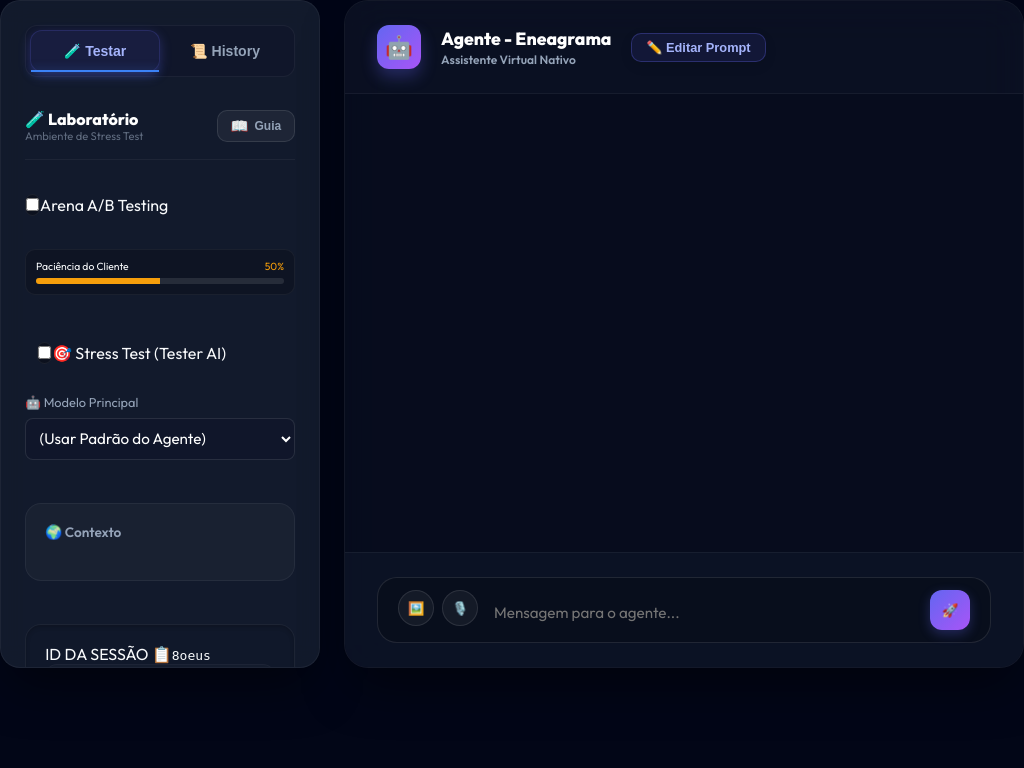
it: ChatPlayground Component › should render link bubble without crashing when response is only a URL
Step 1. Type "Me manda o link" into the text box with placeholder "Mensagem para o agente..." → (704, 612), box [494,595,914,630]
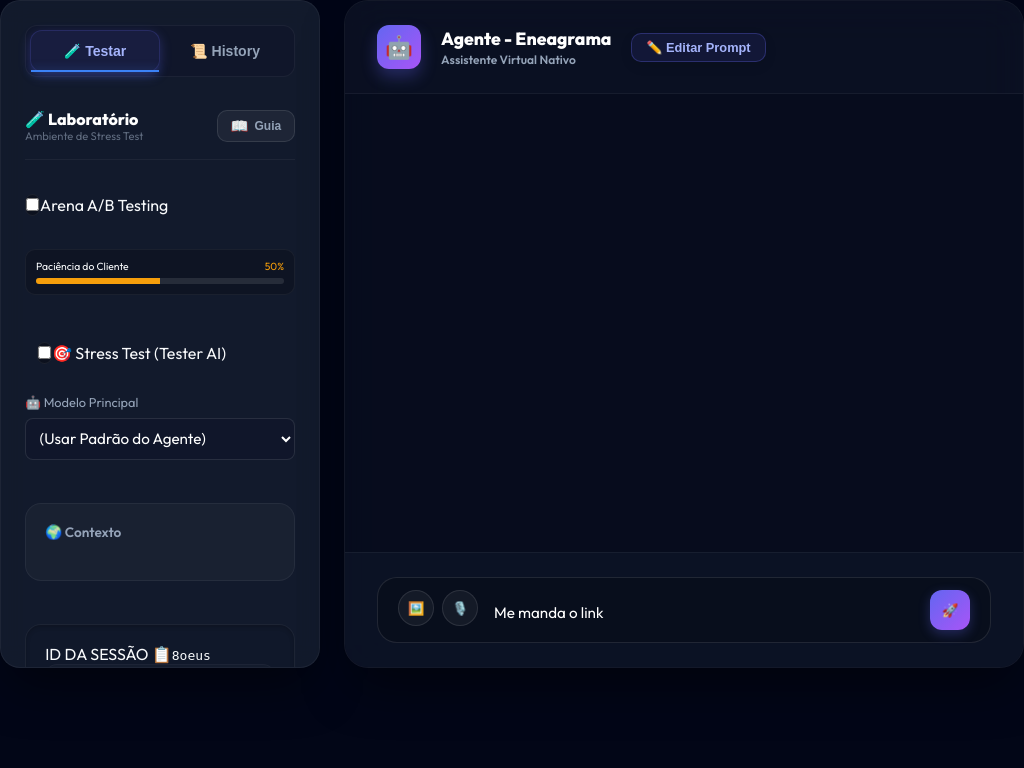
Step 2. Click the submit button → (950, 610), box [930,590,970,630]
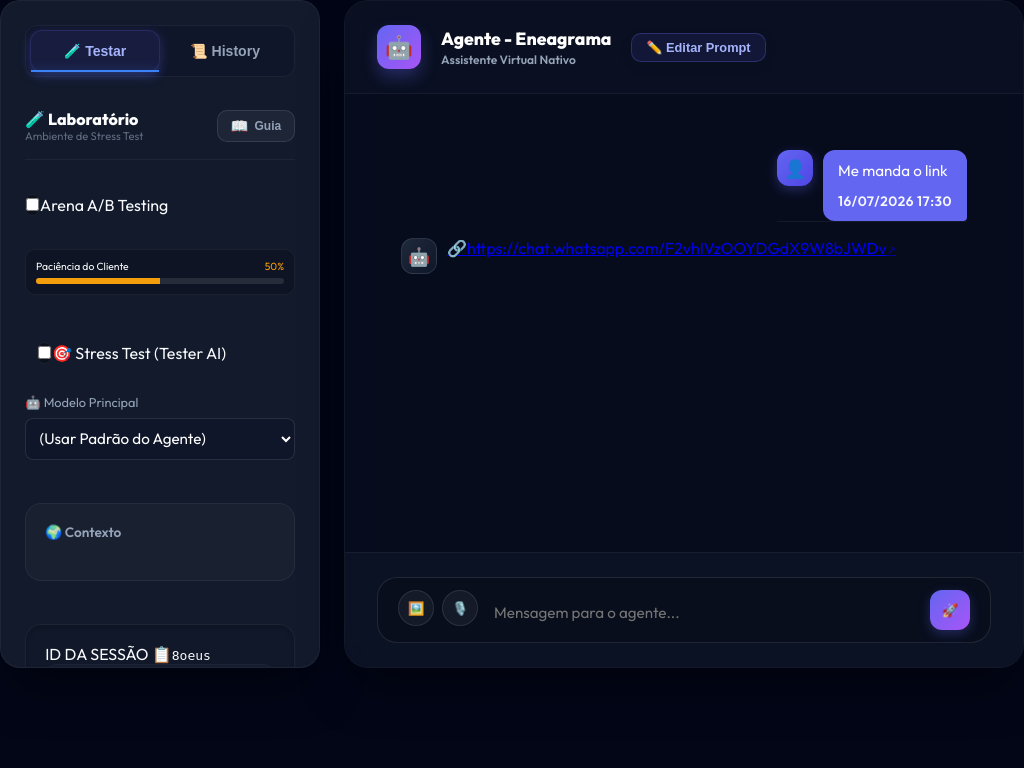
Now the link "🔗https://chat.whatsapp.com/F2vhIVzOOYDGdX9W8bJWDv↗" is shown, box [447,238,896,258]
